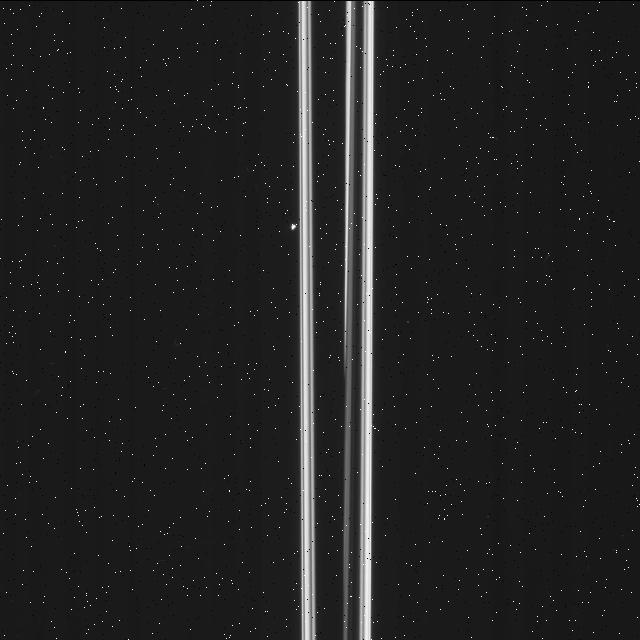Saturn: (300, 0, 374, 640)
